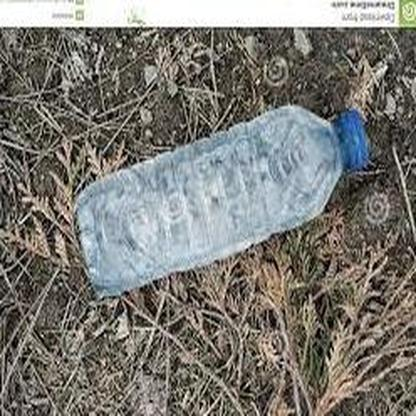plastic bottle: (66, 106, 370, 296)
